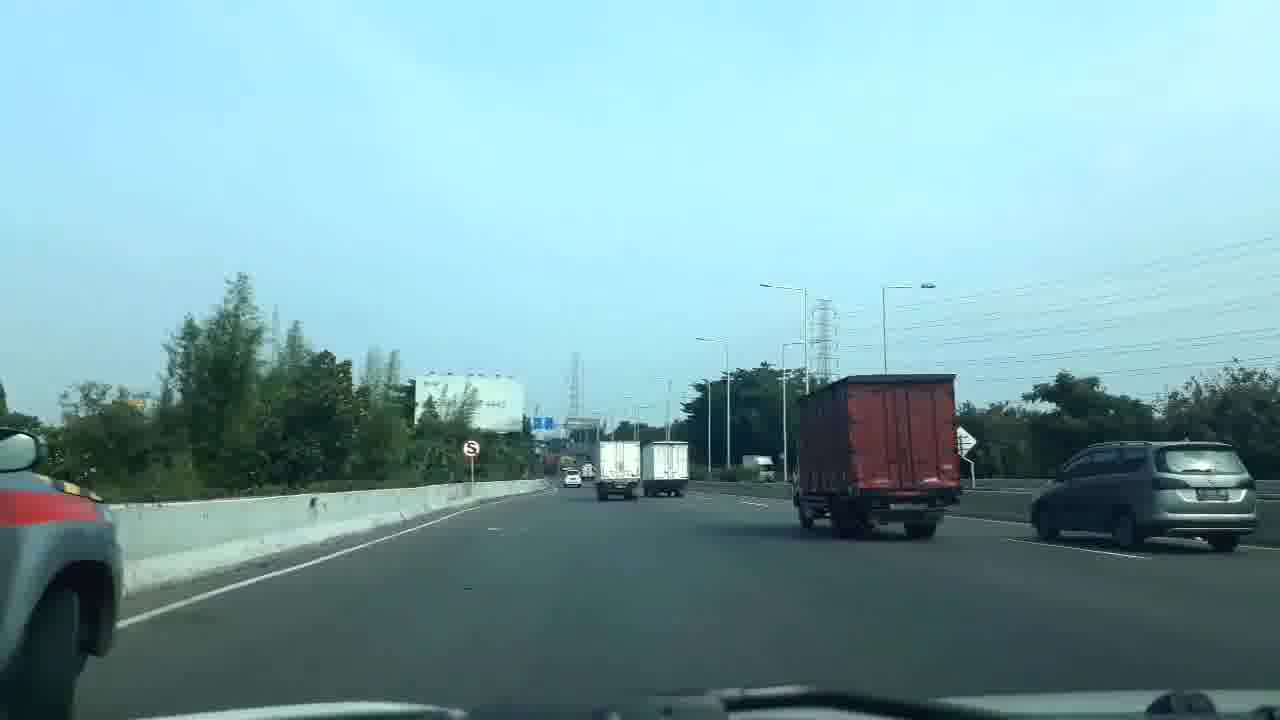plate_positive: (1197, 487, 1229, 501), (890, 502, 929, 512)
